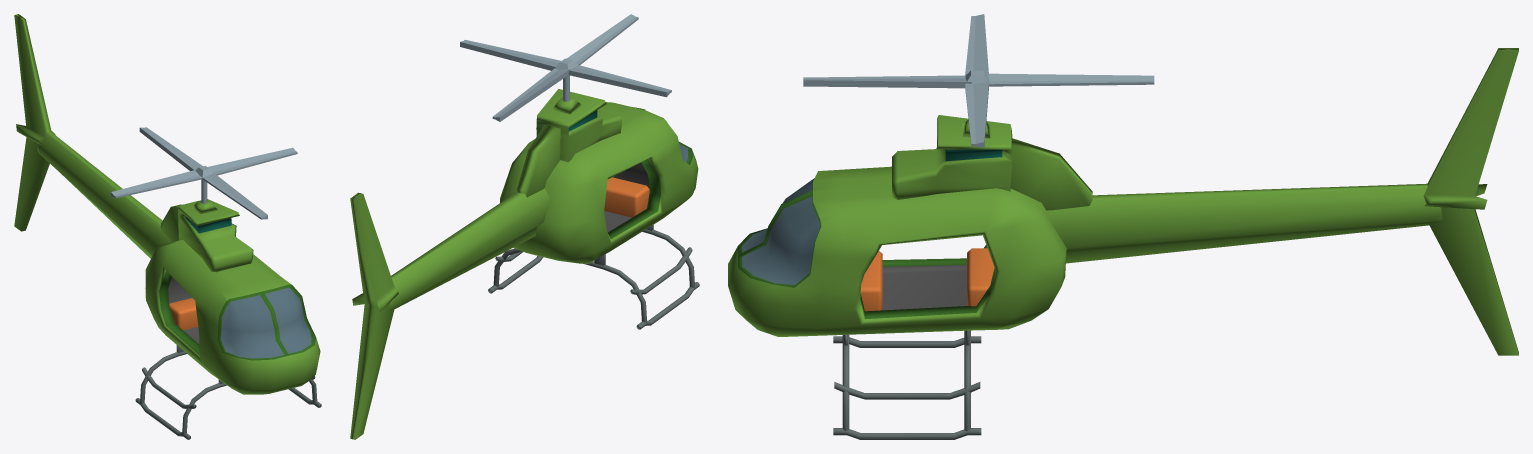
Rendered from helicopter.fbx.
The picture shows the model from 3 angles, left to right: view 1: azimuth 30°, elevation 25°; view 2: azimuth 150°, elevation 25°; view 3: azimuth 270°, elevation 25°; orthographic projection. The views are drawn at different scales.
Visible parts, largest first — view 1: helicopter; view 2: helicopter; view 3: helicopter.
Boxes of the visible parts, box(x1,y1,x2,y2) form: helicopter: box(14, 14, 321, 439); helicopter: box(350, 14, 699, 439); helicopter: box(728, 14, 1518, 439).
Size of the model in its own units: 71.17 by 89.21 by 186.
